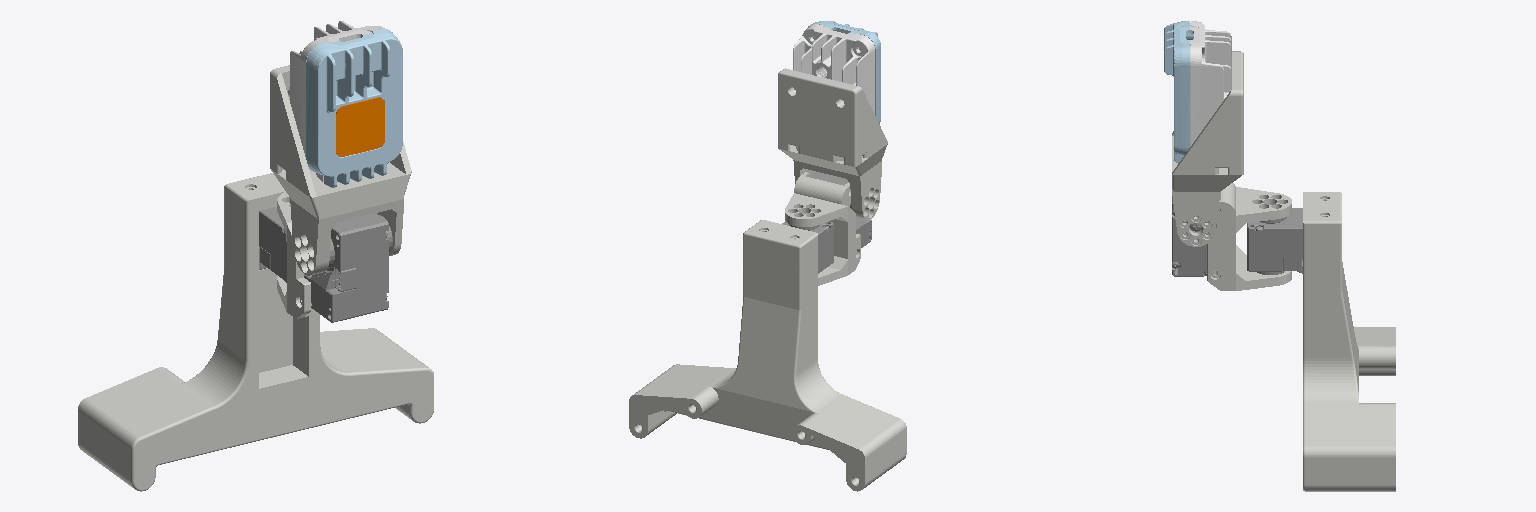
robot.urdf — joga_neck:
<?xml version="1.0" encoding="utf-8"?>
<!-- Joga Neck, Unitree version: 2-DoF pan-tilt camera neck for the Unitree G1 (https://joga.csail.mit.edu/neck/).
     Built from the CAD, with the same link names, joint names, root frame, and joint zero as the
     Dynamixel model used to train the Joga policies. Units: m, kg, rad.
     revolute_1 = pan (+ = look left), revolute_2 = tilt (+ = look down).
     Attach `root` to the G1 torso; g1/g1_joga_neck.xml does this at the calibrated mount pose. -->
<robot name="joga_neck">
  <mujoco>
    <compiler meshdir="meshes/" strippath="true" discardvisual="false" fusestatic="false" />
  </mujoco>
  <!-- Torso Mount and the pan (yaw) servo. Attach this link to the G1 torso. -->
  <link name="root">
    <inertial>
      <origin xyz="2.95014532e-05 -0.0198140197 0.035844683" rpy="0 0 0" />
      <mass value="0.0819657591" />
      <inertia ixx="0.000111974559" ixy="3.77632996e-09" ixz="-7.22877928e-08" iyy="0.000139552975" iyz="2.74668659e-05" izz="6.28455251e-05" />
    </inertial>
    <visual name="torso_mount">
      <origin xyz="0 0 0" rpy="0 0 0" />
      <geometry>
        <mesh filename="meshes/torso_mount.stl" />
      </geometry>
      <material name="torso_mount_material">
        <color rgba="0.85 0.85 0.83 1" />
      </material>
    </visual>
    <visual name="unitree_j288">
      <origin xyz="-8.73468777e-18 -0.0292 0.0730008717" rpy="-3.14159265 1.57079633 0" />
      <geometry>
        <mesh filename="meshes/unitree_j288.stl" />
      </geometry>
      <material name="unitree_j288_material">
        <color rgba="0.6471 0.6471 0.6471 1" />
      </material>
    </visual>
  </link>
  <!-- Yaw-Pitch Bracket and the tilt (pitch) servo. -->
  <link name="pan_link">
    <inertial>
      <origin xyz="0.000317925279 -0.0273126016 -0.00700497476" rpy="0 0 0" />
      <mass value="0.048616688" />
      <inertia ixx="1.04348281e-05" ixy="8.25951962e-08" ixz="-2.75228003e-07" iyy="9.36816717e-06" iyz="7.81621343e-07" izz="7.13640353e-06" />
    </inertial>
    <visual name="unitree_j288_1">
      <origin xyz="0.00800087167 -0.0304995372 -0.00786029089" rpy="1.57079633 2.22044605e-16 3.14159265" />
      <geometry>
        <mesh filename="meshes/unitree_j288.stl" />
      </geometry>
      <material name="unitree_j288_1_material">
        <color rgba="0.6471 0.6471 0.6471 1" />
      </material>
    </visual>
    <visual name="yaw_pitch_bracket">
      <origin xyz="-3.46944695e-18 -0.0205 -0.00786" rpy="0 0 -3.14159265" />
      <geometry>
        <mesh filename="meshes/yaw_pitch_bracket.stl" />
      </geometry>
      <material name="yaw_pitch_bracket_material">
        <color rgba="0.85 0.85 0.83 1" />
      </material>
    </visual>
  </link>
  <!-- Camera Mount and the OAK-1 W camera. -->
  <link name="tilt_link">
    <inertial>
      <origin xyz="-0.0147335744 0.00171299941 0.0494547161" rpy="0 0 0" />
      <mass value="0.0662464404" />
      <inertia ixx="2.67838533e-05" ixy="-9.6805857e-08" ixz="-7.46336015e-08" iyy="3.07000343e-05" iyz="8.02734125e-07" izz="1.2089159e-05" />
    </inertial>
    <visual name="606_00001_rev3">
      <origin xyz="-0.014501746 -0.000950000001 0.0562000136" rpy="-1.57079633 5.99520433e-15 -3.14159265" />
      <geometry>
        <mesh filename="meshes/_606_00001_REV3.stl" />
      </geometry>
      <material name="606_00001_rev3_material">
        <color rgba="0.7686 0.8863 0.9529 1" />
      </material>
    </visual>
    <visual name="606_00002_rev3">
      <origin xyz="-0.0145 -0.001 0.0562000136" rpy="-1.57079633 5.77315973e-15 -3.14159265" />
      <geometry>
        <mesh filename="meshes/_606_00002_REV3.stl" />
      </geometry>
      <material name="606_00002_rev3_material">
        <color rgba="0.9176 0.9176 0.9176 1" />
      </material>
    </visual>
    <visual name="609_00001_adhesive">
      <origin xyz="-0.014501746 -0.000950000001 0.0562000136" rpy="-1.57079633 -1.77635684e-15 -3.14159265" />
      <geometry>
        <mesh filename="meshes/_609_00001_ADHESIVE.stl" />
      </geometry>
      <material name="609_00001_adhesive_material">
        <color rgba="0.498 0.498 0.498 1" />
      </material>
    </visual>
    <visual name="609_00001_lens">
      <origin xyz="-0.014501746 -0.000950000001 0.0562000136" rpy="-1.57079633 5.99520433e-15 -3.14159265" />
      <geometry>
        <mesh filename="meshes/_609_00001_LENS.stl" />
      </geometry>
      <material name="609_00001_lens_material">
        <color rgba="0.9725 0.5294 0.0039 1" />
      </material>
    </visual>
    <visual name="camera_mount">
      <origin xyz="-0.0145 -6.9388939e-17 0.017" rpy="-1.79023463e-15 -5.77315973e-15 6.605827e-15" />
      <geometry>
        <mesh filename="meshes/camera_mount.stl" />
      </geometry>
      <material name="camera_mount_material">
        <color rgba="0.85 0.85 0.83 1" />
      </material>
    </visual>
  </link>
  <!-- pan (yaw), + = look left -->
  <joint name="revolute_1" type="revolute">
    <parent link="root" />
    <child link="pan_link" />
    <origin xyz="1.93795258e-16 -0.0367 0.0798008717" rpy="0 0 0" />
    <axis xyz="-6.80836813e-17 1.01794942e-16 1" />
    <limit lower="-1.5708" upper="1.5708" effort="1.5" velocity="33.3" />
  </joint>
  <!-- tilt (pitch), + = look down -->
  <joint name="revolute_2" type="revolute">
    <parent link="pan_link" />
    <child link="tilt_link" />
    <origin xyz="0.0148008717 -0.0304995372 -0.000360290892" rpy="0 0 0" />
    <axis xyz="1 -6.66133815e-15 1.39357542e-14" />
    <limit lower="-0.3491" upper="1.5708" effort="1.5" velocity="33.3" />
  </joint>
  <!-- Camera optical frame on the OAK-1 W (same convention as the Dynamixel model). -->
  <link name="camera_frame">
    <inertial>
      <origin xyz="0 0 0" rpy="0 0 0" />
      <mass value="1e-09" />
      <inertia ixx="1e-12" ixy="0" ixz="0" iyy="1e-12" iyz="0" izz="1e-12" />
    </inertial>
  </link>
  <joint name="camera_joint" type="fixed">
    <parent link="tilt_link" />
    <child link="camera_frame" />
    <origin xyz="-0.0144645965 -0.00882879888 0.0487449062" rpy="-1.56064209e-05 2.29266092e-05 -1.57096996" />
  </joint>
</robot>

--- Render facts (derived) ---
3 views of the same robot in one strip: view 1: azimuth 30°, elevation 25°; view 2: azimuth 150°, elevation 25°; view 3: azimuth 270°, elevation 25° (orthographic).
Robot: joga_neck — 4 links, 3 joints (2 revolute, 1 fixed); root link root; default pose: every joint at zero.
Visible links, largest first — view 1: root, tilt_link, pan_link; view 2: root, tilt_link, pan_link; view 3: root, tilt_link, pan_link.
Boxes of the visible links, x1,y1,x2,y2 form: root: (78, 173, 433, 491); tilt_link: (270, 21, 411, 275); pan_link: (277, 192, 392, 322); root: (629, 220, 906, 491); tilt_link: (778, 21, 887, 219); pan_link: (785, 171, 871, 285); root: (1247, 192, 1395, 491); tilt_link: (1164, 21, 1243, 246); pan_link: (1172, 183, 1291, 290).
Size in the robot's own frame: 0.1222 by 0.0954 by 0.1813 metres.
9 mesh visuals loaded from 8 distinct referenced files (8 binary STL).
